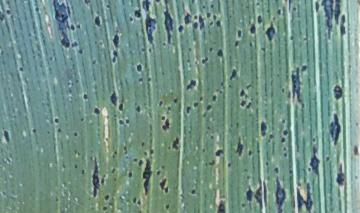tarspot: (52, 1, 71, 48), (321, 1, 342, 42), (287, 64, 304, 105), (294, 179, 314, 213), (141, 1, 156, 46), (255, 138, 264, 213), (326, 111, 341, 148), (163, 1, 173, 48), (273, 174, 285, 213), (308, 145, 322, 176), (142, 155, 152, 198), (90, 156, 100, 198), (263, 20, 278, 44), (334, 162, 347, 187), (261, 178, 269, 210), (338, 13, 348, 37), (234, 136, 244, 159), (244, 184, 254, 206), (331, 83, 343, 101), (110, 32, 121, 50), (215, 197, 227, 213), (228, 67, 240, 82), (259, 120, 268, 139), (184, 78, 197, 91), (183, 11, 192, 29), (110, 49, 119, 67), (197, 12, 205, 32), (109, 89, 117, 109), (170, 137, 181, 151), (161, 119, 171, 133), (1, 1, 7, 24), (351, 143, 360, 158), (2, 128, 11, 143), (248, 22, 257, 36), (132, 8, 143, 19), (158, 177, 167, 190), (313, 1, 321, 15), (299, 63, 309, 74), (134, 62, 142, 75), (33, 1, 41, 14), (51, 115, 61, 125), (184, 105, 193, 116), (117, 101, 125, 113), (287, 1, 294, 14), (92, 106, 101, 116), (164, 106, 173, 116), (216, 47, 224, 58), (177, 23, 184, 35), (256, 13, 263, 25), (127, 169, 136, 178), (117, 118, 125, 128), (214, 149, 224, 157), (54, 124, 62, 134), (238, 87, 246, 97), (201, 55, 209, 65), (93, 15, 99, 28), (100, 173, 106, 186), (236, 28, 243, 39), (124, 116, 132, 125), (70, 40, 79, 48), (272, 165, 280, 174), (122, 146, 130, 155), (69, 22, 76, 32), (82, 92, 89, 102), (282, 127, 289, 137), (239, 98, 246, 108), (137, 158, 144, 168), (111, 150, 118, 160), (214, 20, 222, 28), (288, 33, 296, 41), (246, 149, 253, 158), (77, 47, 84, 56), (134, 104, 141, 113), (233, 40, 240, 49), (244, 102, 253, 109), (311, 135, 318, 144), (207, 159, 216, 166), (91, 58, 98, 67), (60, 162, 67, 171), (72, 130, 79, 138), (192, 101, 199, 109), (267, 133, 275, 140), (189, 188, 196, 196), (103, 193, 110, 201), (79, 116, 86, 124), (205, 124, 213, 131), (193, 12, 198, 23), (211, 93, 216, 104), (192, 21, 198, 30), (157, 99, 163, 108), (82, 1, 92, 6), (131, 195, 136, 205), (80, 167, 85, 177), (235, 120, 240, 130), (128, 16, 135, 23), (324, 155, 331, 162), (164, 203, 171, 210), (142, 150, 149, 157), (5, 8, 11, 16), (146, 76, 152, 84), (276, 8, 282, 16), (156, 169, 162, 177), (136, 198, 142, 206), (140, 140, 146, 148), (110, 166, 116, 174), (147, 46, 153, 54), (280, 86, 286, 94), (201, 111, 207, 119), (201, 146, 207, 154), (76, 22, 81, 31), (248, 39, 253, 48), (198, 94, 203, 103), (351, 174, 358, 180), (32, 127, 38, 134), (160, 115, 167, 121), (137, 76, 144, 82), (172, 97, 178, 104), (209, 3, 215, 10), (282, 151, 288, 158), (225, 162, 231, 169), (101, 205, 108, 211), (291, 6, 298, 12), (209, 134, 215, 141), (259, 45, 265, 52), (246, 174, 252, 181), (242, 165, 248, 172), (140, 46, 147, 52), (206, 11, 211, 19), (212, 13, 217, 21), (149, 147, 154, 155), (164, 186, 169, 194), (53, 197, 61, 202), (206, 104, 212, 110), (200, 4, 206, 10), (160, 164, 166, 170), (73, 163, 79, 169), (46, 129, 52, 135), (208, 19, 213, 26), (282, 144, 287, 151), (254, 1, 261, 6), (105, 3, 110, 10), (153, 1, 161, 5), (355, 1, 360, 7), (280, 118, 286, 123), (280, 137, 285, 143), (208, 46, 213, 52), (186, 46, 192, 51), (219, 81, 225, 86), (167, 144, 171, 151), (189, 1, 196, 5), (17, 65, 21, 72), (266, 7, 269, 15), (227, 84, 233, 88), (264, 160, 267, 168)
